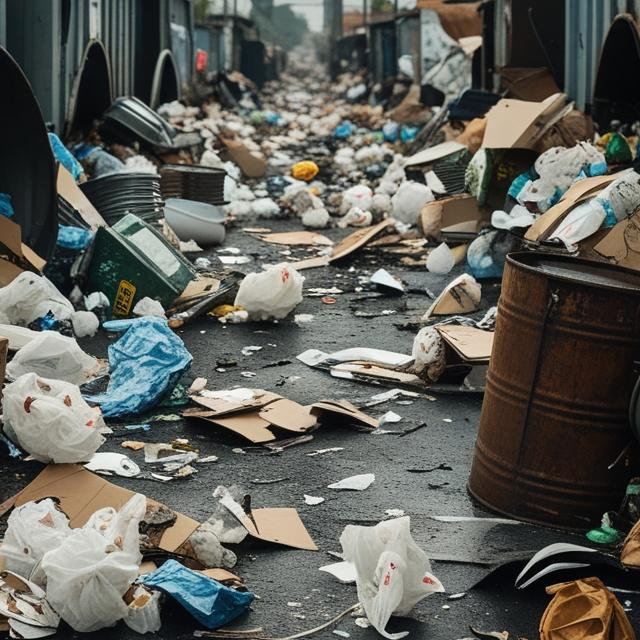metal: (493, 253, 640, 532)
plastic: (333, 520, 441, 634), (96, 313, 191, 414)
